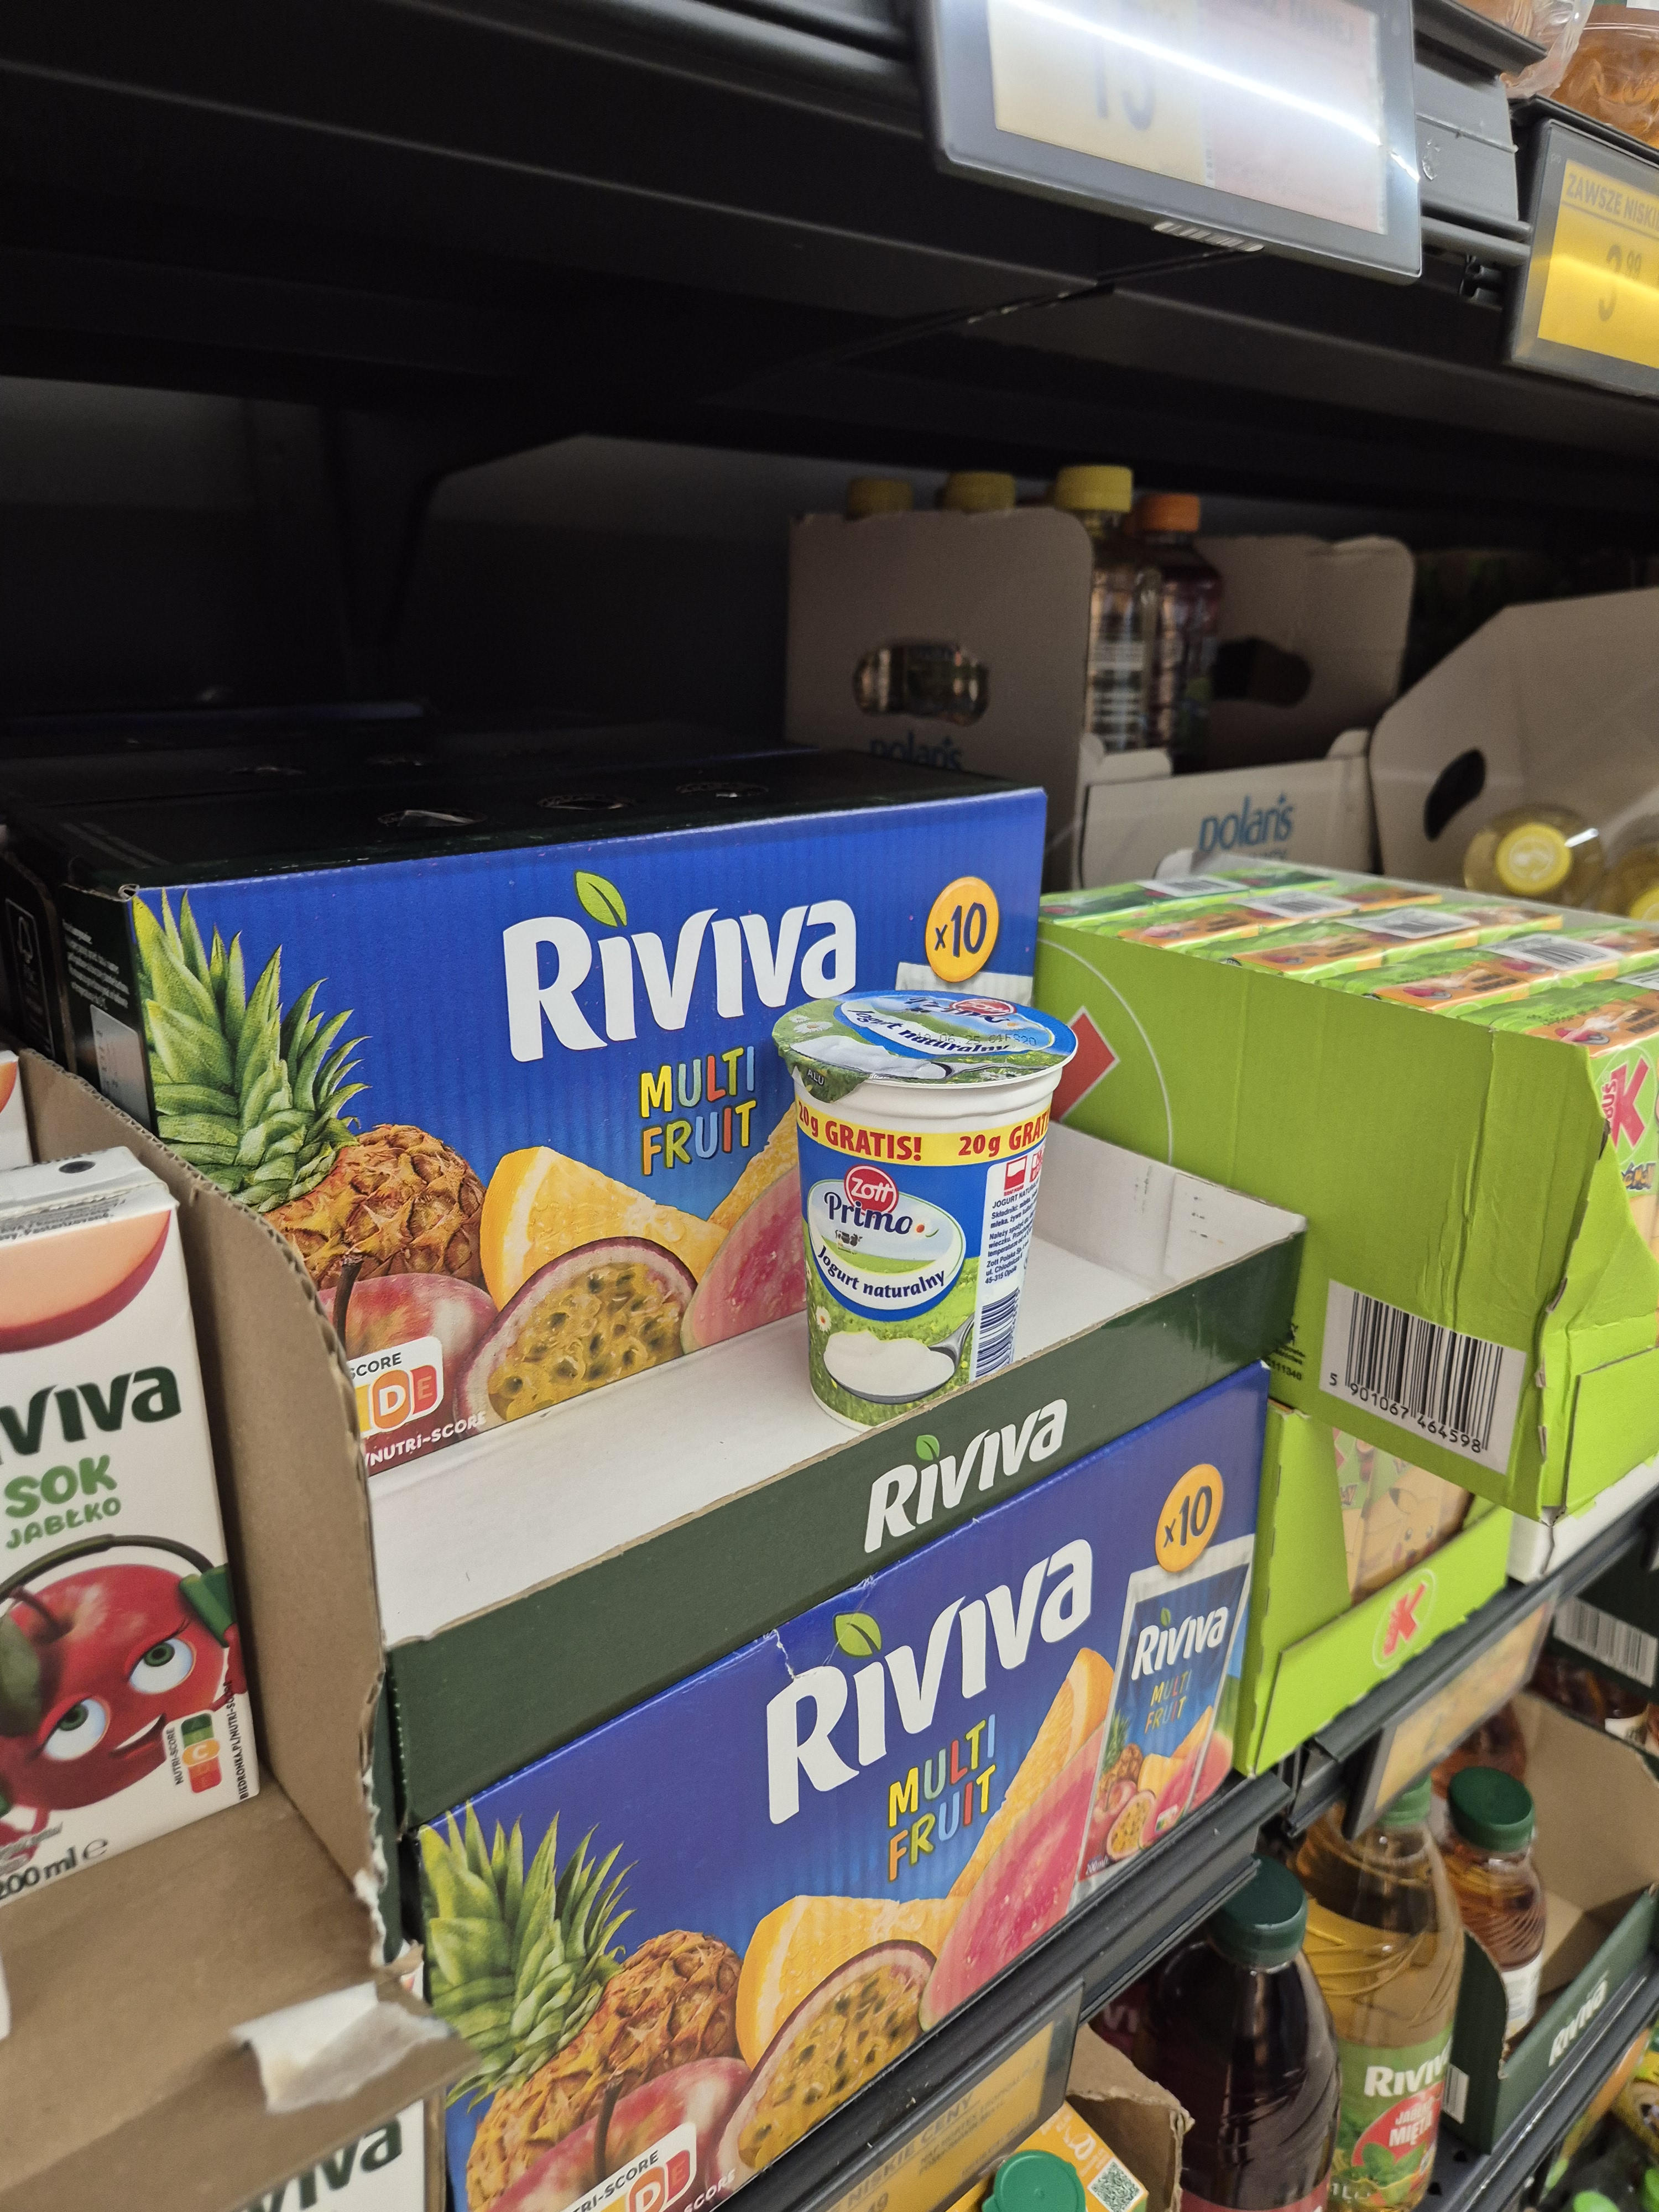Yogurt: (758, 951, 1112, 1409)
